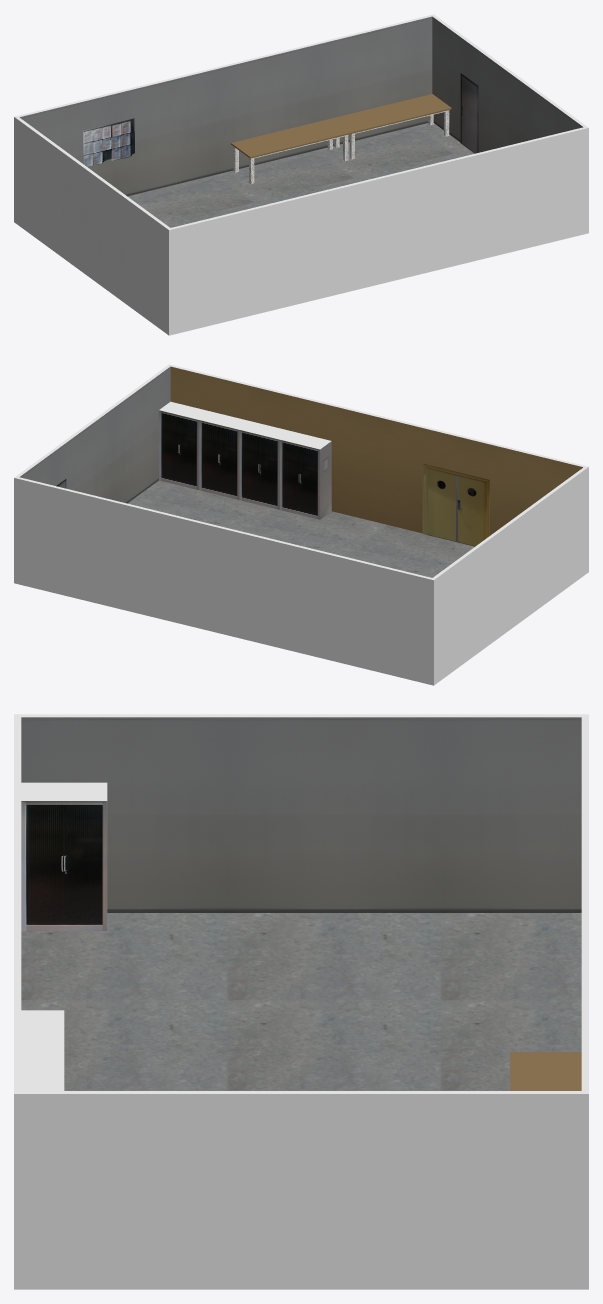
3 renders of one model, top to bottom at view 1: azimuth 30°, elevation 25°; view 2: azimuth 150°, elevation 25°; view 3: azimuth 270°, elevation 25°, orthographic. The views are drawn at different scales.
Visible parts, largest first — view 1: SketchUp (×3), instance_9 (×2), instance_8 (×2), instance_1, instance_2; view 2: SketchUp (×4), instance_0, instance_6 (×3), instance_5 (×2), instance_4 (×2), instance_3 (×2); view 3: SketchUp (×3), instance_7 (×2), instance_9, instance_6, instance_5.
Part boxes in pixels (x1,y1,x2,y2): SketchUp (×3): (14, 14, 588, 335); instance_9 (×2): (231, 118, 350, 183); instance_8 (×2): (332, 94, 451, 159); instance_1: (83, 118, 134, 166); instance_2: (460, 73, 478, 153); SketchUp (×4): (14, 364, 588, 685); instance_0: (422, 463, 489, 546); instance_6 (×3): (280, 431, 331, 519); instance_5 (×2): (239, 421, 290, 509); instance_4 (×2): (199, 411, 250, 499); instance_3 (×2): (159, 401, 210, 489); SketchUp (×3): (14, 714, 588, 1289); instance_7 (×2): (21, 782, 107, 930); instance_9: (510, 1052, 581, 1090); instance_6: (21, 1010, 64, 1046); instance_5: (21, 1047, 64, 1083).
Size of the model in its own units: 492 by 315 by 118.
Materials: 10 (8 with a texture image).
